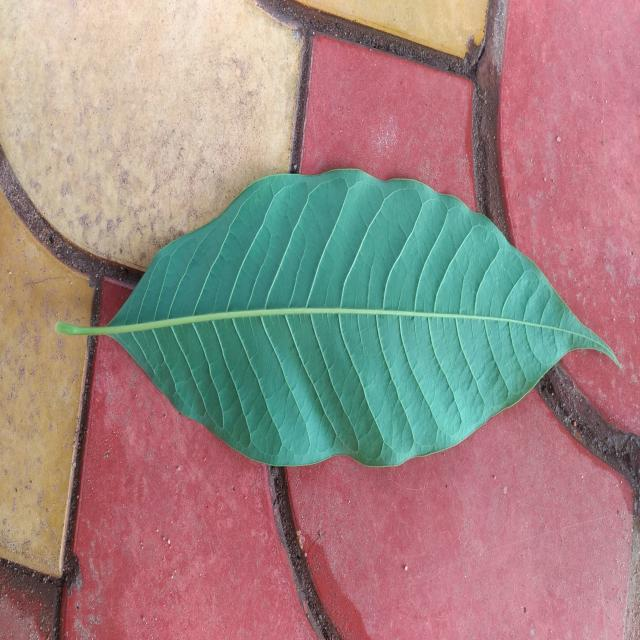coffee: (59, 169, 618, 467)
